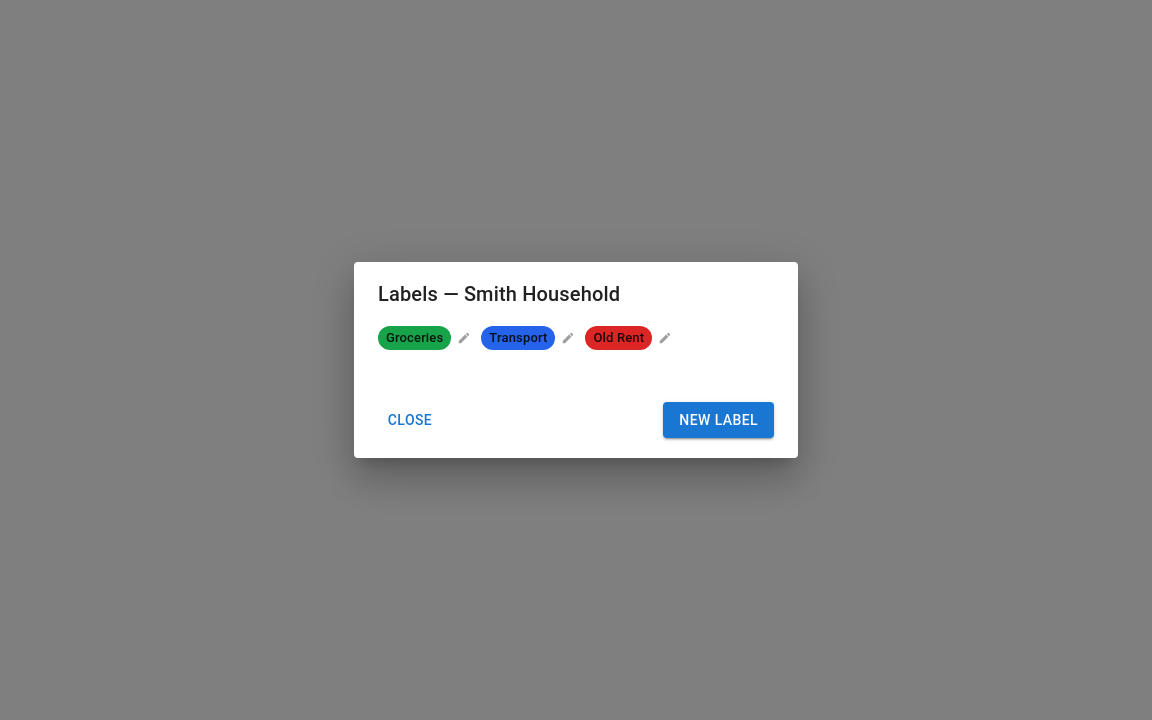
LabelManagementDialog title › shows "Edit label" title after clicking the edit button
This screenshot has width=1152, height=720.
expect the text "Groceries" is shown: met, box 386,330 -> 443,345
Click the button named "edit groceries". click: x=464, y=338
box: 455,329 -> 473,347
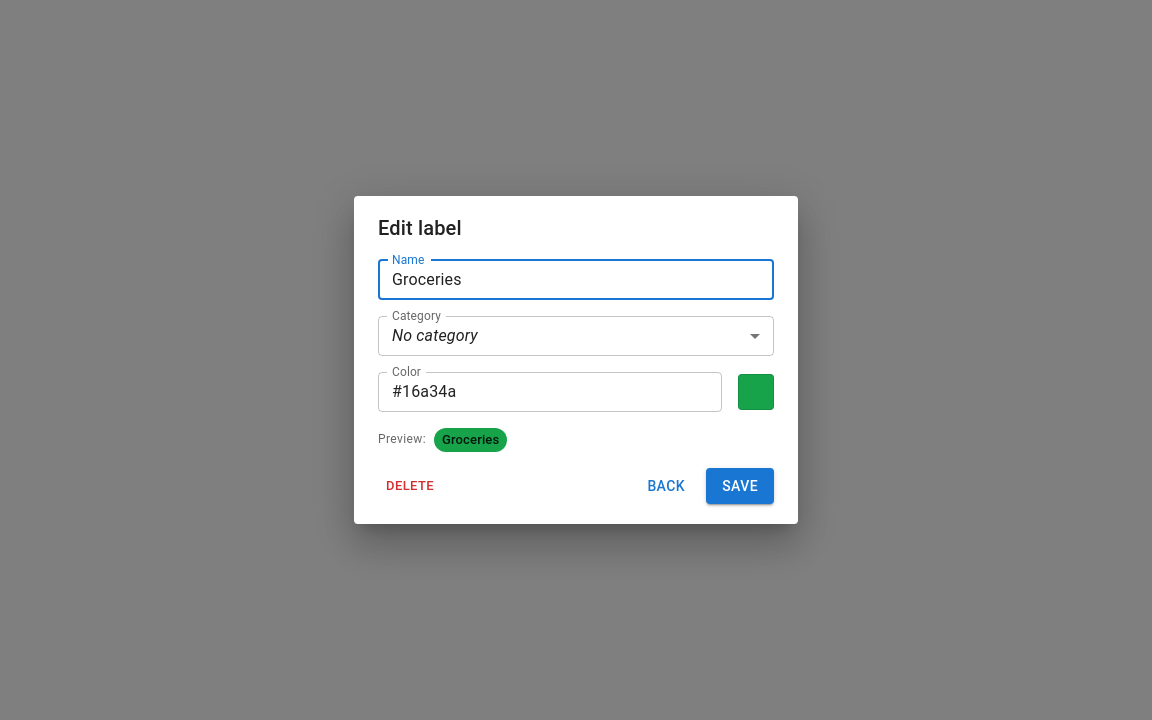
expect the heading "Edit label" is shown: met, box 378,216 -> 462,240
